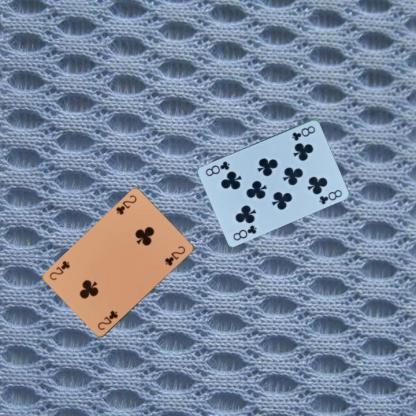2c: (113, 192, 138, 216), (95, 308, 119, 332)
8c: (289, 123, 316, 142), (231, 223, 258, 242)
